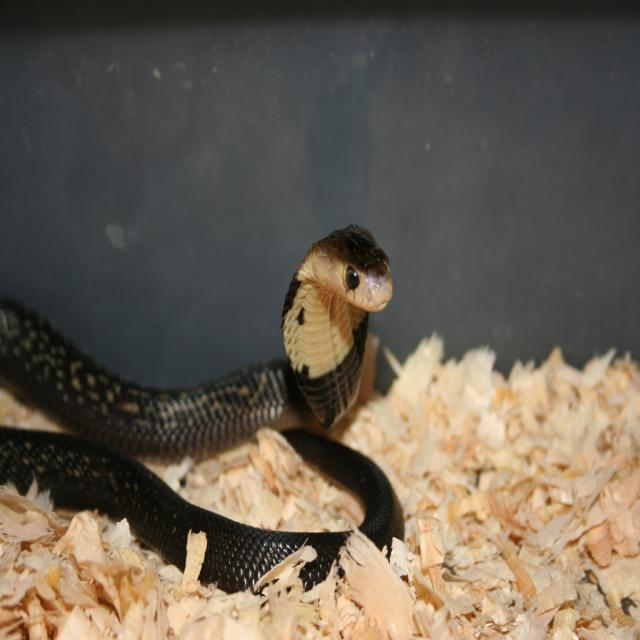Snake: (0, 210, 408, 582)
